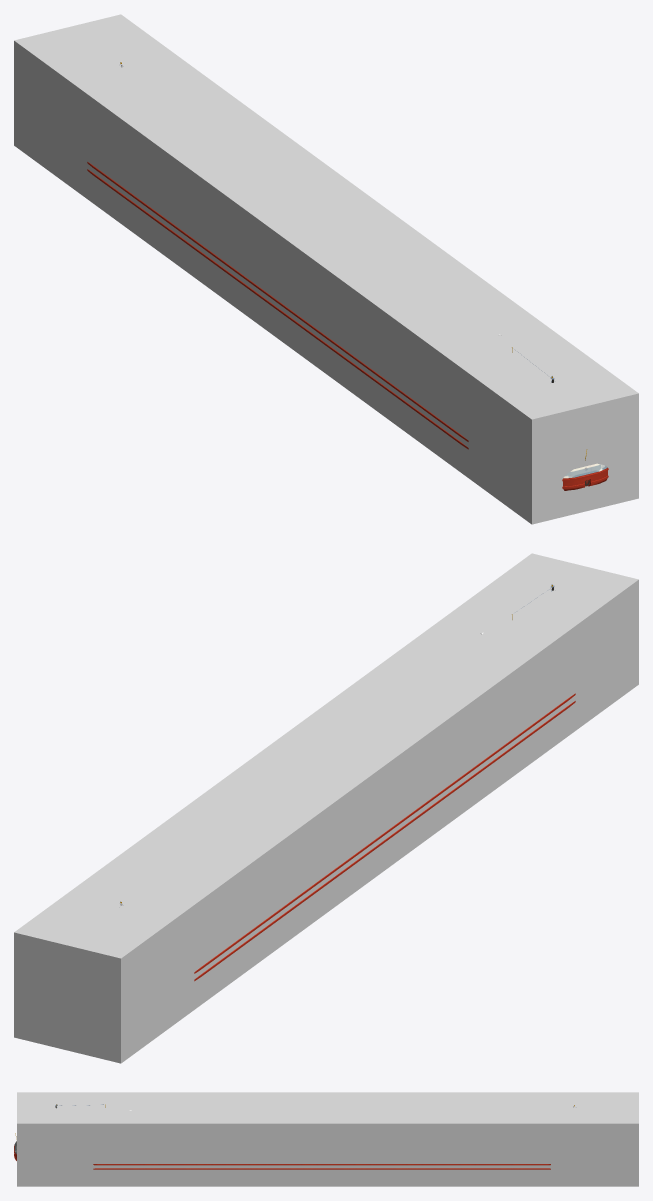
File: volgo_don.fbx
The picture shows the model from 3 angles, top to bottom: view 1: azimuth 30°, elevation 25°; view 2: azimuth 150°, elevation 25°; view 3: azimuth 270°, elevation 25°; orthographic projection. The views are drawn at different scales.
Parts seen in each view (by area): view 1: proxy, ship_type_507_hull_detali; view 2: proxy, ship_type_507_hull_detali; view 3: proxy, ship_type_507_hull_detali.
Part boxes in pixels (x1=…): proxy: x1=14, y1=14, x2=638, y2=524; ship_type_507_hull_detali: x1=87, y1=162, x2=608, y2=488; proxy: x1=14, y1=553, x2=638, y2=1063; ship_type_507_hull_detali: x1=194, y1=693, x2=575, y2=981; proxy: x1=17, y1=1092, x2=638, y2=1186; ship_type_507_hull_detali: x1=14, y1=1145, x2=550, y2=1169.
Bounding box in the file's own units: 1617 × 1597 × 13467.
